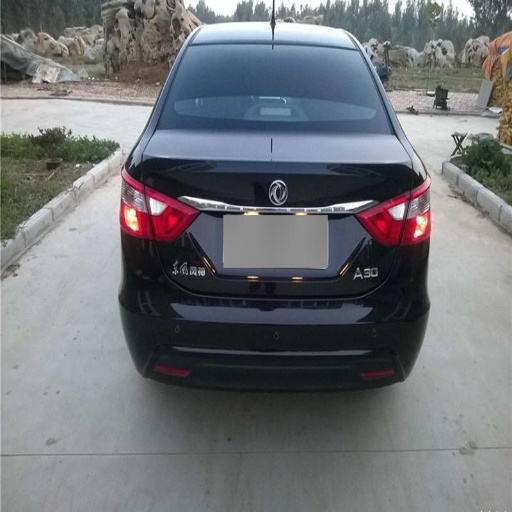back_bumper: (121, 236, 435, 392)
tailgate: (134, 124, 415, 301)
